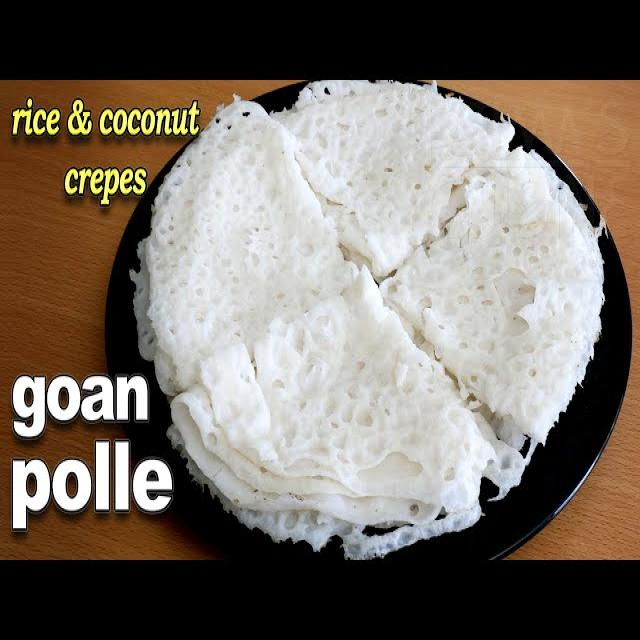DOSA: (173, 269, 504, 561), (387, 130, 604, 453), (156, 109, 354, 387), (286, 77, 508, 277)
